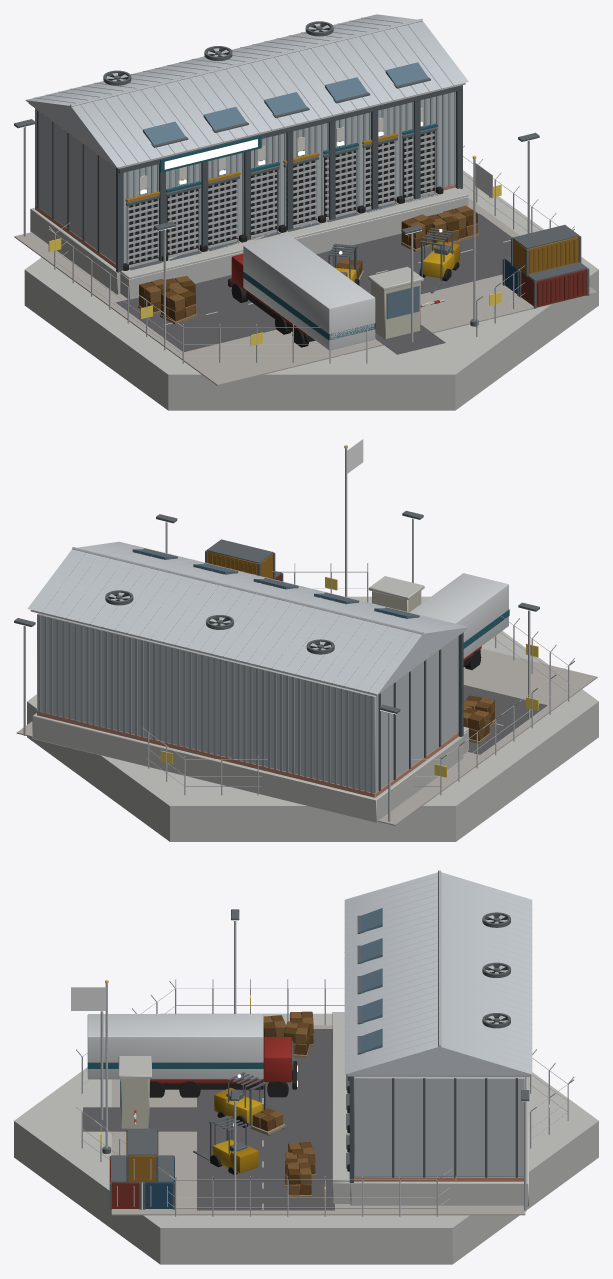
The model's file is warehouse.glb.
3 renders of one model, top to bottom at view 1: azimuth 30°, elevation 25°; view 2: azimuth 150°, elevation 25°; view 3: azimuth 270°, elevation 25°, orthographic. The views are drawn at different scales.
Visible parts, largest first — view 1: cladding, wall_concrete, paint, metal, gravel, asphalt, steel_dark, dark, wood, glass, glow_warm, hazard; view 2: cladding, wall_concrete, metal, gravel, paint, steel_dark, brick, asphalt, wood, glass, hazard; view 3: cladding, wall_concrete, paint, asphalt, metal, steel_dark, gravel, wood, glass, dark, banner, brick.
Part boxes in pixels (bbox=[...]): cladding: bbox=[25, 14, 468, 339]; wall_concrete: bbox=[24, 82, 598, 410]; paint: bbox=[116, 85, 586, 350]; metal: bbox=[23, 17, 574, 363]; gravel: bbox=[14, 198, 597, 385]; asphalt: bbox=[116, 213, 512, 354]; steel_dark: bbox=[14, 21, 589, 326]; dark: bbox=[108, 25, 459, 347]; wood: bbox=[138, 205, 479, 324]; glass: bbox=[143, 62, 428, 319]; glow_warm: bbox=[18, 124, 538, 254]; hazard: bbox=[48, 184, 501, 345]; cladding: bbox=[27, 541, 469, 793]; wall_concrete: bbox=[27, 576, 598, 841]; metal: bbox=[23, 448, 574, 821]; gravel: bbox=[16, 648, 597, 825]; paint: bbox=[207, 551, 509, 736]; steel_dark: bbox=[14, 510, 539, 791]; brick: bbox=[37, 711, 458, 797]; asphalt: bbox=[463, 685, 547, 754]; wood: bbox=[463, 695, 494, 743]; glass: bbox=[132, 549, 416, 618]; hazard: bbox=[160, 576, 538, 777]; cladding: bbox=[121, 872, 532, 1176]; wall_concrete: bbox=[14, 1012, 598, 1264]; paint: bbox=[87, 1014, 353, 1208]; asphalt: bbox=[83, 1029, 334, 1210]; metal: bbox=[76, 870, 574, 1216]; steel_dark: bbox=[102, 909, 529, 1209]; gravel: bbox=[111, 1025, 525, 1215]; wood: bbox=[251, 1011, 315, 1198]; glass: bbox=[120, 908, 382, 1107]; dark: bbox=[149, 917, 506, 1174]; banner: bbox=[71, 987, 106, 1010]; brick: bbox=[354, 1177, 523, 1181].
Size of the model in its own units: 21.3 by 9.7 by 24.6.
